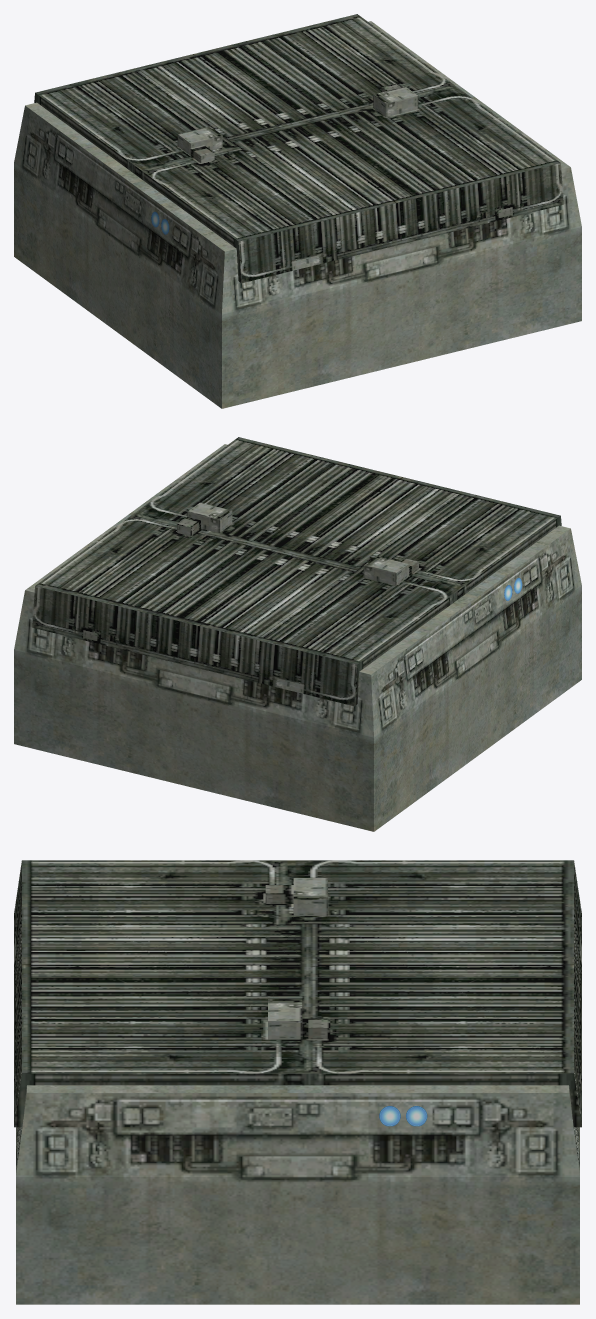
File: thm_corl_power_box_node_l1.fbx
3 views of the same model, one above another, from view 1: azimuth 30°, elevation 25°; view 2: azimuth 150°, elevation 25°; view 3: azimuth 270°, elevation 25° (orthographic). The views are drawn at different scales.
Parts seen in each view (by area): view 1: mesh_node; view 2: mesh_node; view 3: mesh_node.
Boxes of the visible parts, bbox=[...] form: mesh_node: bbox=[14, 14, 581, 408]; mesh_node: bbox=[14, 437, 581, 831]; mesh_node: bbox=[14, 860, 581, 1304].
Size of the model in its own units: 4 by 1.85 by 4.03.
